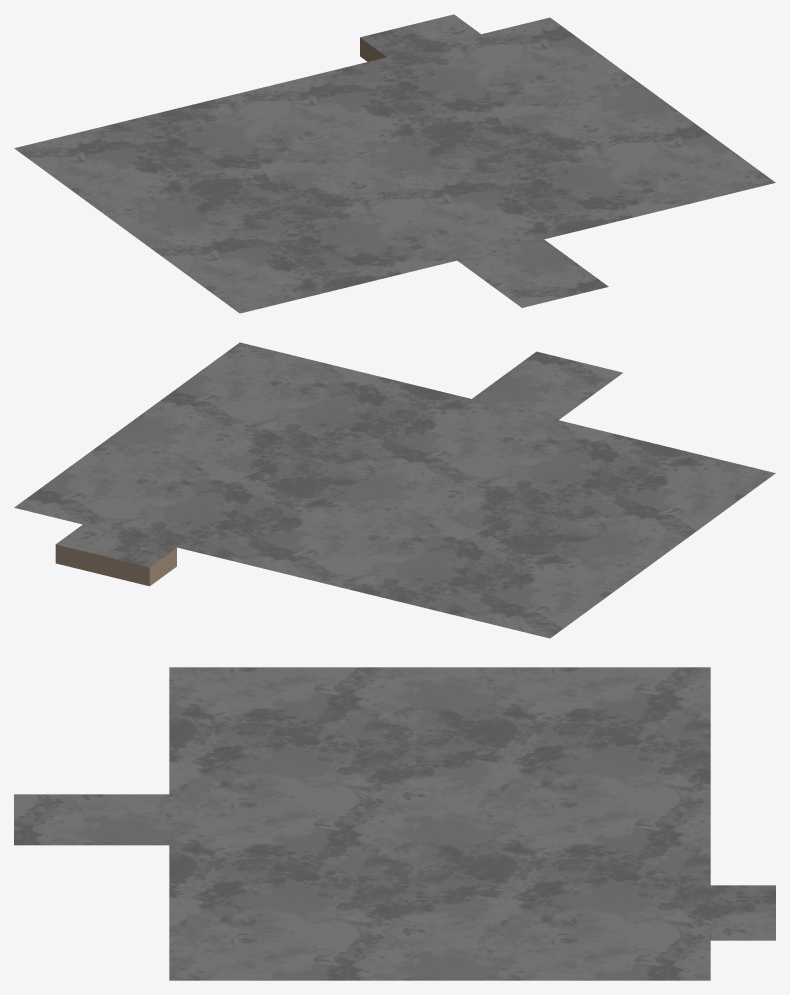
File: Floor.fbx
3 renders of one model, top to bottom at view 1: azimuth 30°, elevation 25°; view 2: azimuth 150°, elevation 25°; view 3: azimuth 270°, elevation 25°, orthographic. The views are drawn at different scales.
Parts seen in each view (by area): view 1: Floor; view 2: Floor; view 3: Floor.
Boxes of the visible parts, left/top/right/bottom form: Floor: left=14, top=14, right=775, bottom=313; Floor: left=14, top=342, right=775, bottom=638; Floor: left=14, top=667, right=775, bottom=980.
Size of the model in its own units: 3700 by 125 by 3800.
Materials: 3 (3 with a texture image).
